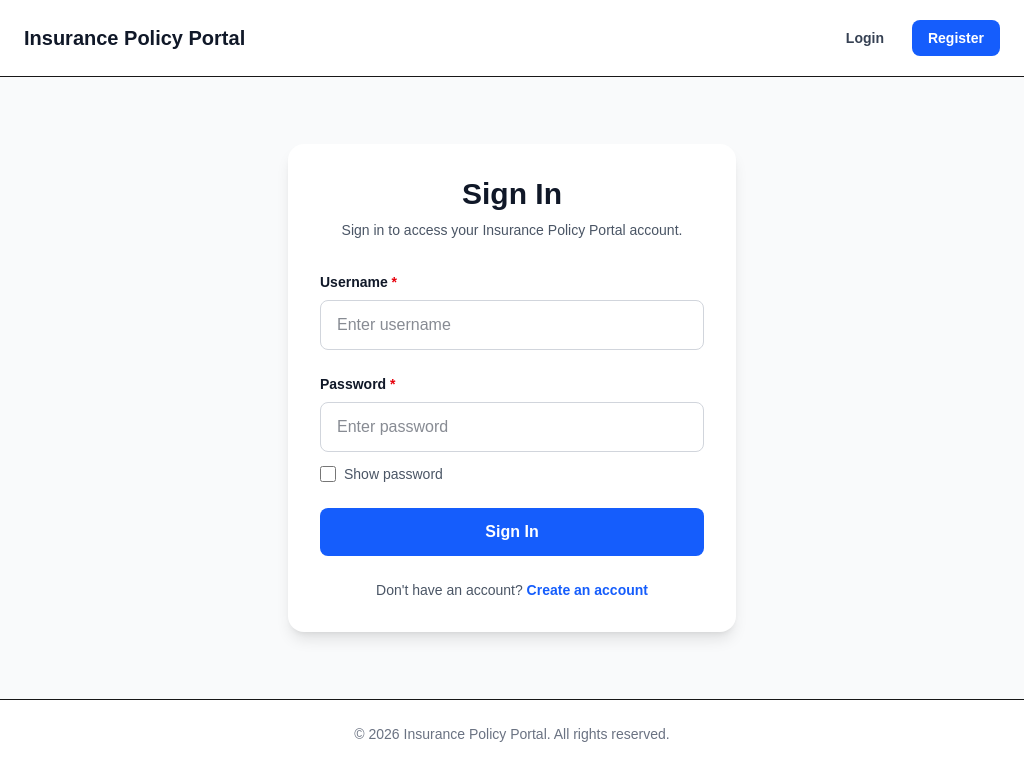
LoginPage › should display the loading state while login is in progress
Type "testuser" into the field with placeholder "Enter username" at [512, 325], box [320, 300, 704, 350]
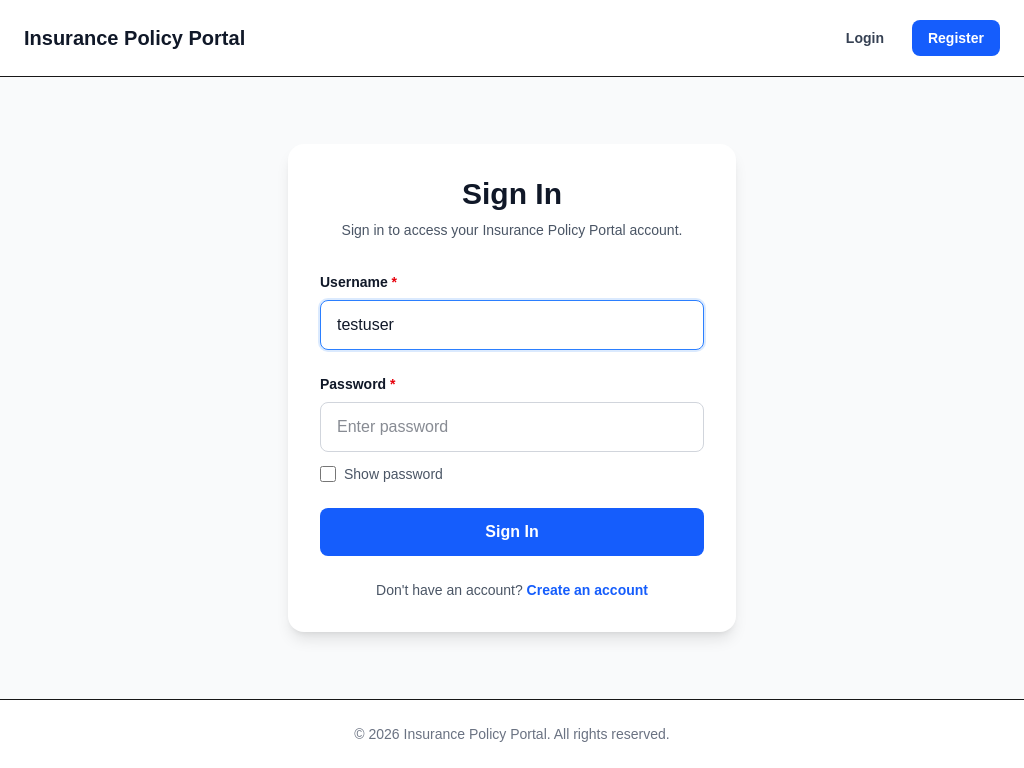
Type "Password123!" into the password field with placeholder "Enter password" at [512, 427], box [320, 402, 704, 452]
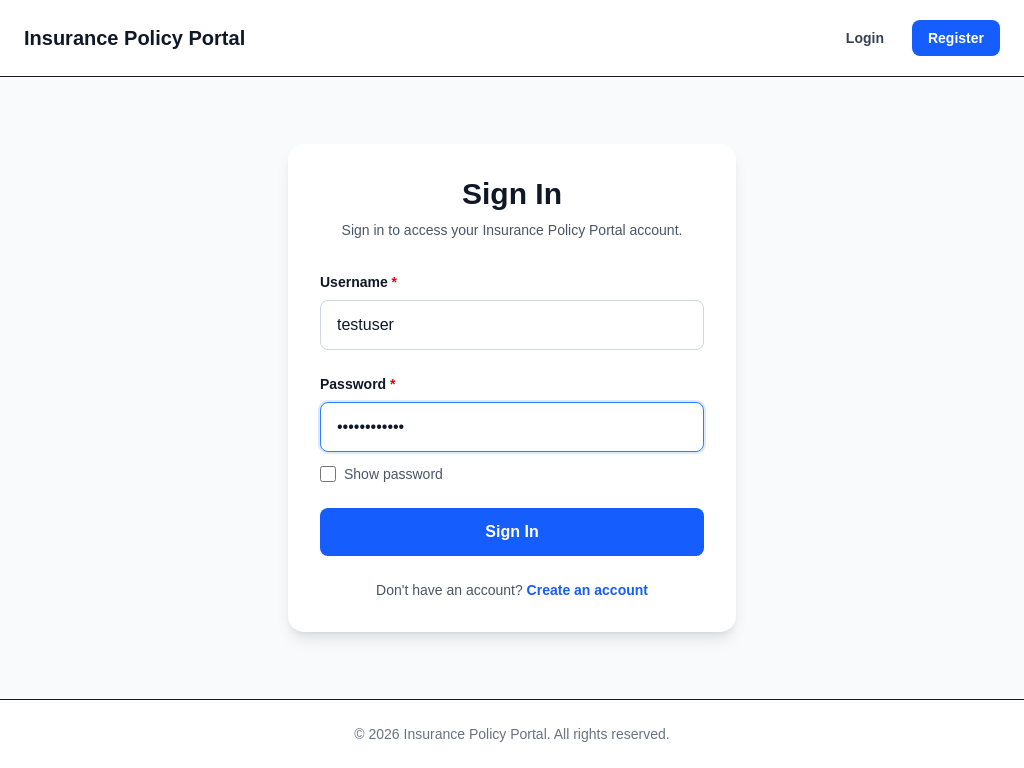
Click the button "Sign In" at [512, 532], box [320, 508, 704, 556]
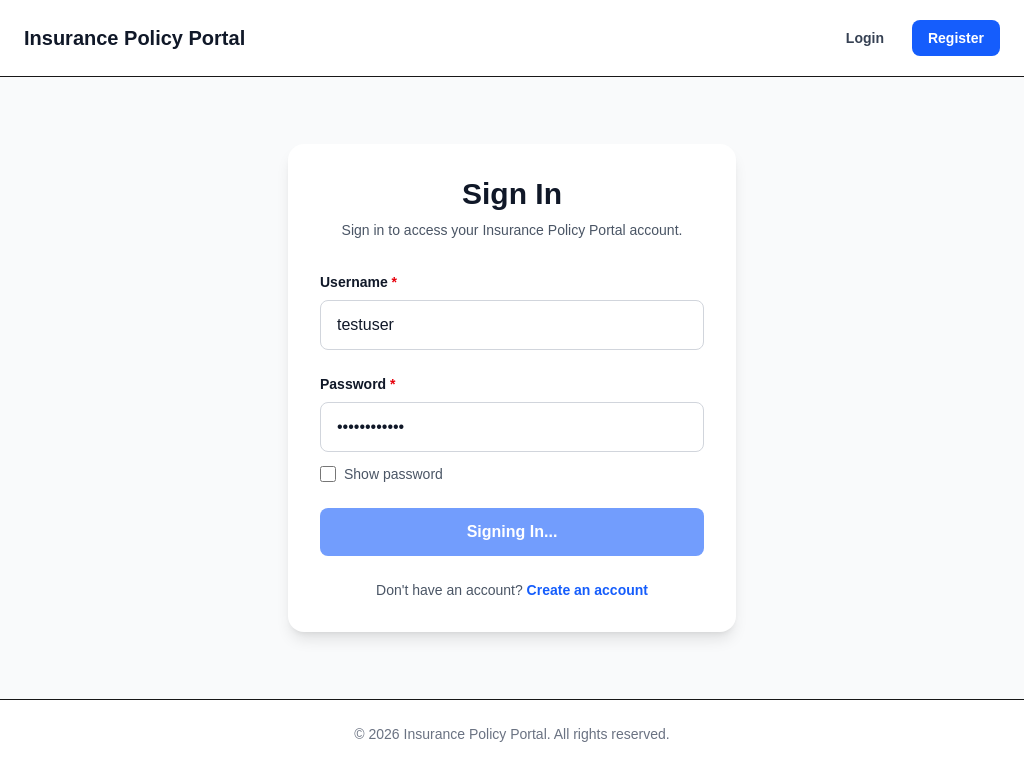
Now the button "Signing In..." is disabled, box [320, 508, 704, 556]
